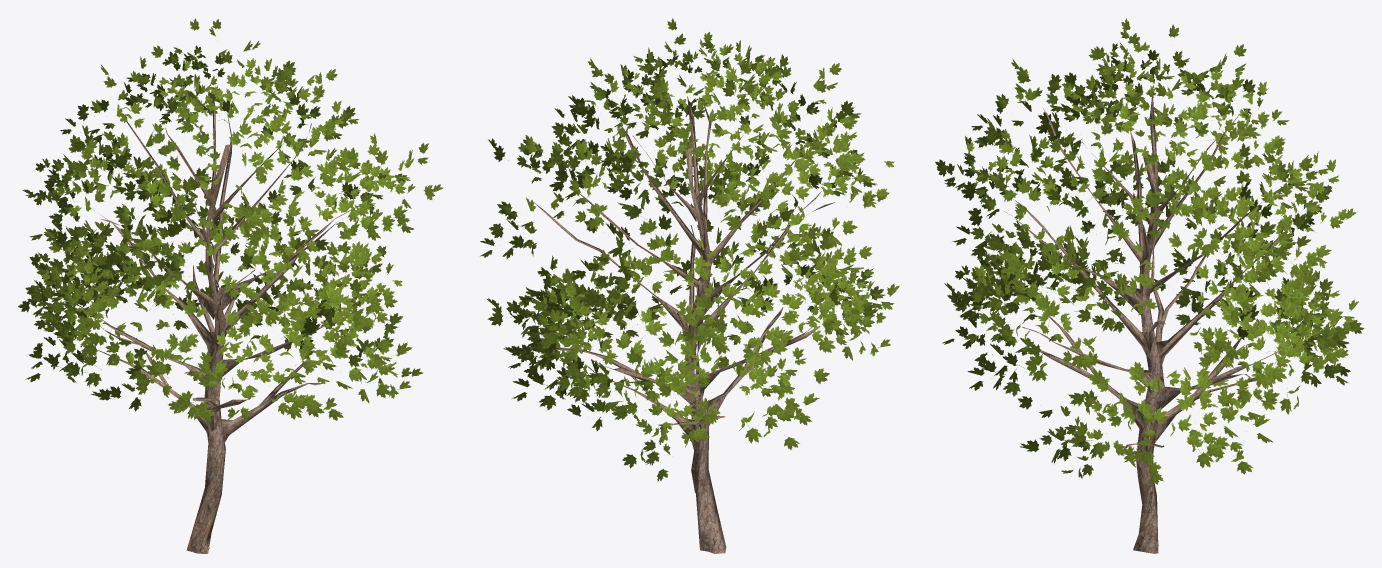
The model's file is tree_maple_hi.glb.
3 views of the same model, side by side, from view 1: azimuth 30°, elevation 25°; view 2: azimuth 150°, elevation 25°; view 3: azimuth 270°, elevation 25° (orthographic). The views are drawn at different scales.
Visible parts, largest first — view 1: leaf, trunk; view 2: leaf, trunk; view 3: leaf, trunk.
Boxes of the visible parts, x1,y1,x2,y2 form: leaf: (18, 18, 443, 424); trunk: (76, 92, 358, 553); leaf: (480, 18, 899, 481); trunk: (533, 85, 834, 553); leaf: (935, 18, 1364, 485); trunk: (1004, 97, 1291, 553).
Size of the model in its own units: 8.51 by 9.89 by 7.67.
2 materials, 2 textured.
